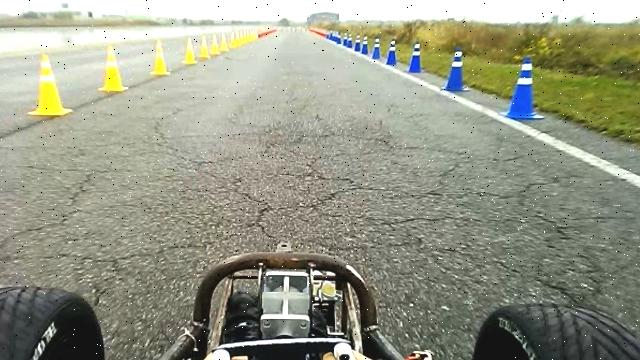blue cone: (503, 55, 545, 120), (441, 45, 470, 92), (408, 42, 423, 73), (386, 39, 398, 65), (372, 37, 382, 59), (360, 35, 369, 55), (354, 34, 362, 52), (346, 33, 353, 49)
yellow cone: (27, 53, 73, 117), (99, 44, 128, 92), (150, 39, 170, 76), (182, 37, 198, 64), (198, 34, 210, 59), (210, 34, 221, 56), (229, 31, 239, 48), (220, 34, 229, 52)
